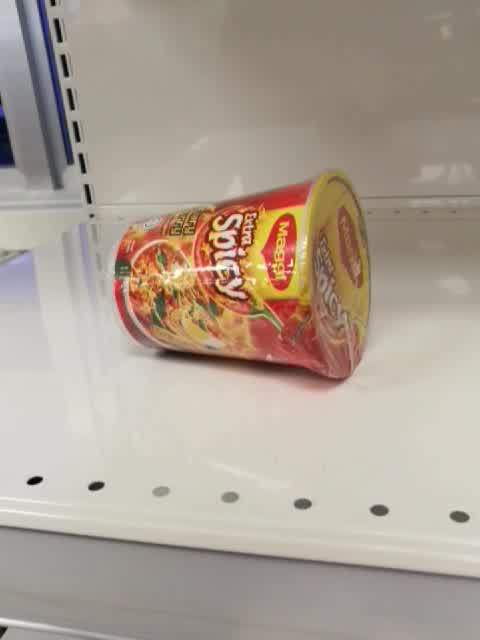maggi: (106, 168, 371, 384)
